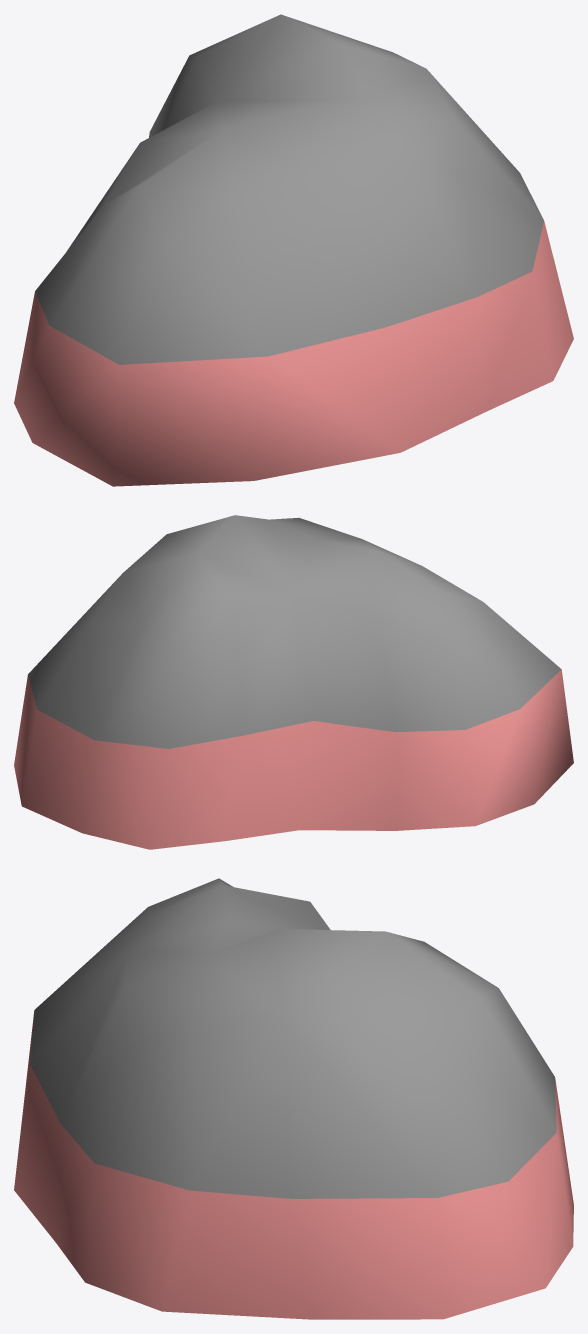
File: stone_01.gltf
3 renders of one model, top to bottom at view 1: azimuth 30°, elevation 25°; view 2: azimuth 150°, elevation 25°; view 3: azimuth 270°, elevation 25°, orthographic. The views are drawn at different scales.
Visible parts, largest first — view 1: stone_01; view 2: stone_01; view 3: stone_01.
Part boxes in pixels (<box>): stone_01: <box>14,14,573,486</box>; stone_01: <box>14,515,573,849</box>; stone_01: <box>14,878,573,1319</box>.
Bounding box in the file's own units: 1.13 × 0.5995 × 1.02.
